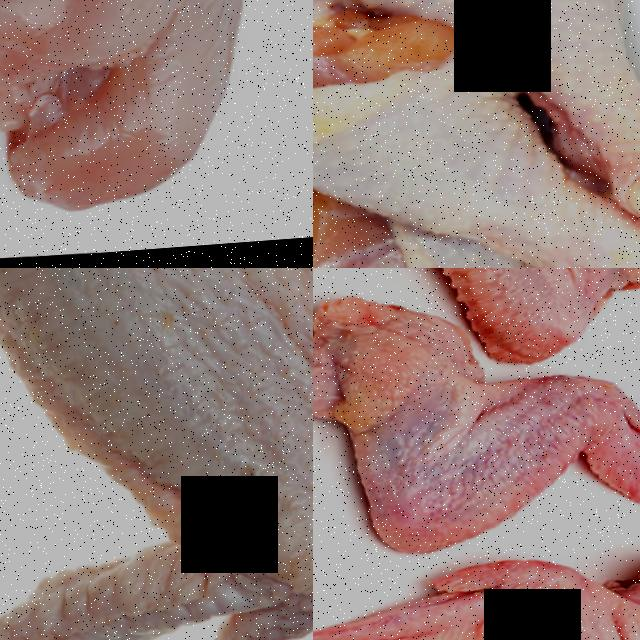chicken breast: (0, 0, 285, 229)
chicken thigh: (313, 5, 629, 268), (313, 0, 640, 210)
chicken wing: (0, 268, 313, 640), (313, 342, 640, 573), (313, 268, 640, 371), (313, 548, 640, 640)
